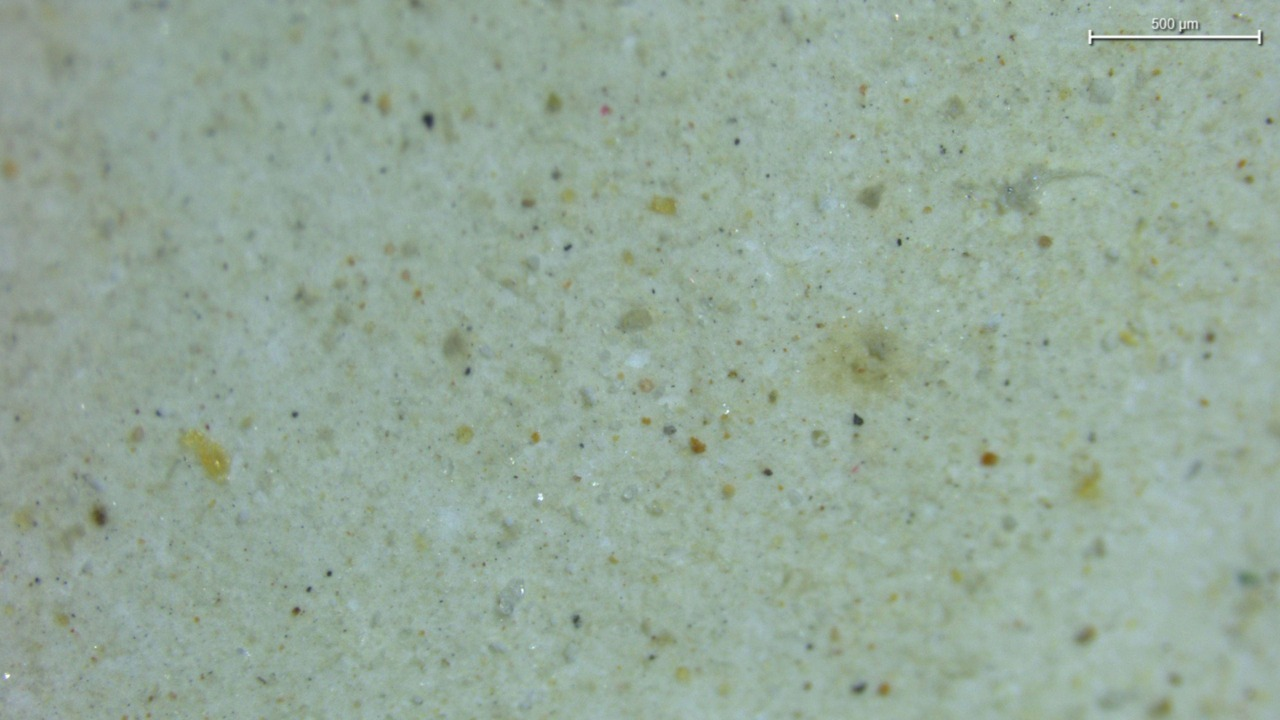microplastic_fragment: (497, 579, 524, 616)
